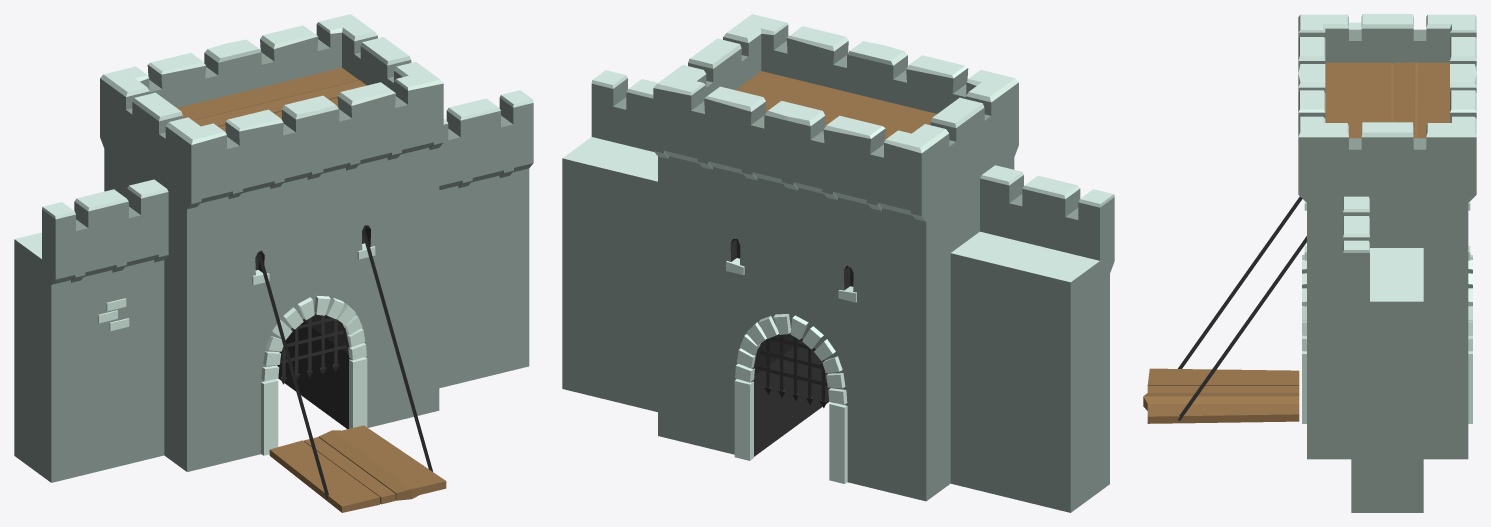
File: castle-gate_01.fbx
3 views of the same model, side by side, from view 1: azimuth 30°, elevation 25°; view 2: azimuth 150°, elevation 25°; view 3: azimuth 270°, elevation 25° (orthographic). The views are drawn at different scales.
Visible parts, largest first — view 1: castle-gate_01, castle-gate_01-02; view 2: castle-gate_01; view 3: castle-gate_01, castle-gate_01-02.
Part boxes in pixels (left/top/right/bottom): castle-gate_01: left=14, top=14, right=533, bottom=482; castle-gate_01-02: left=257, top=228, right=446, bottom=512; castle-gate_01: left=562, top=14, right=1114, bottom=512; castle-gate_01: left=1298, top=14, right=1476, bottom=512; castle-gate_01-02: left=1143, top=196, right=1306, bottom=423.
Bounding box in the file's own units: 1500 × 1002 × 930.
